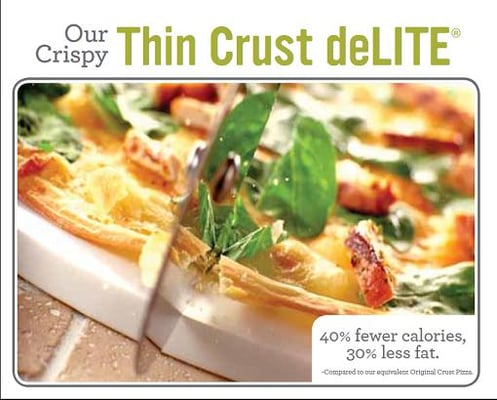sandwich: (9, 82, 482, 380)
